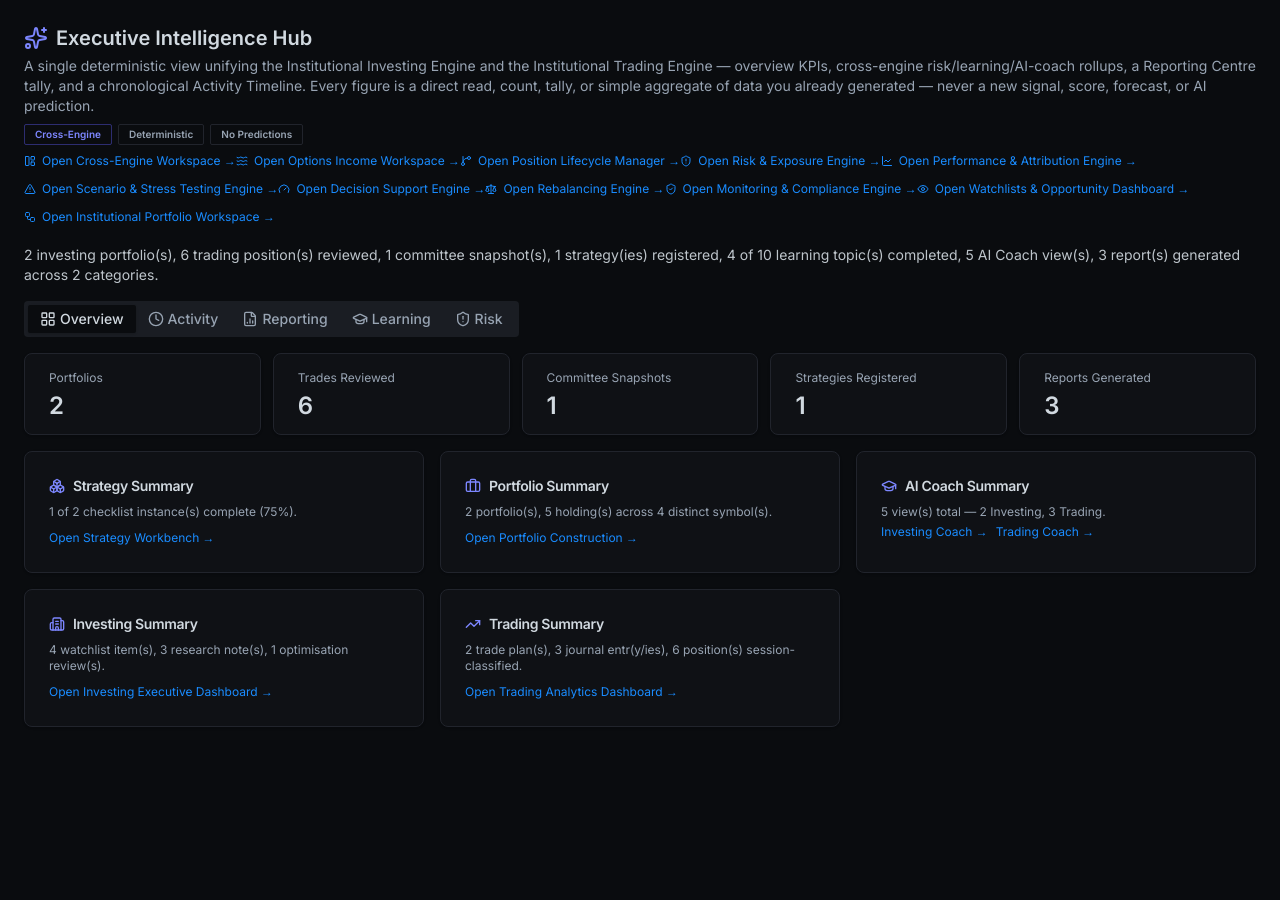
Test case: ExecutiveIntelligence page › Reporting tab shows real report-type tallies and recent reports, reusing the Reporting Centre link
Click the tab with test id "tab-executive-reporting" at (285, 319), box [230,305,340,333]
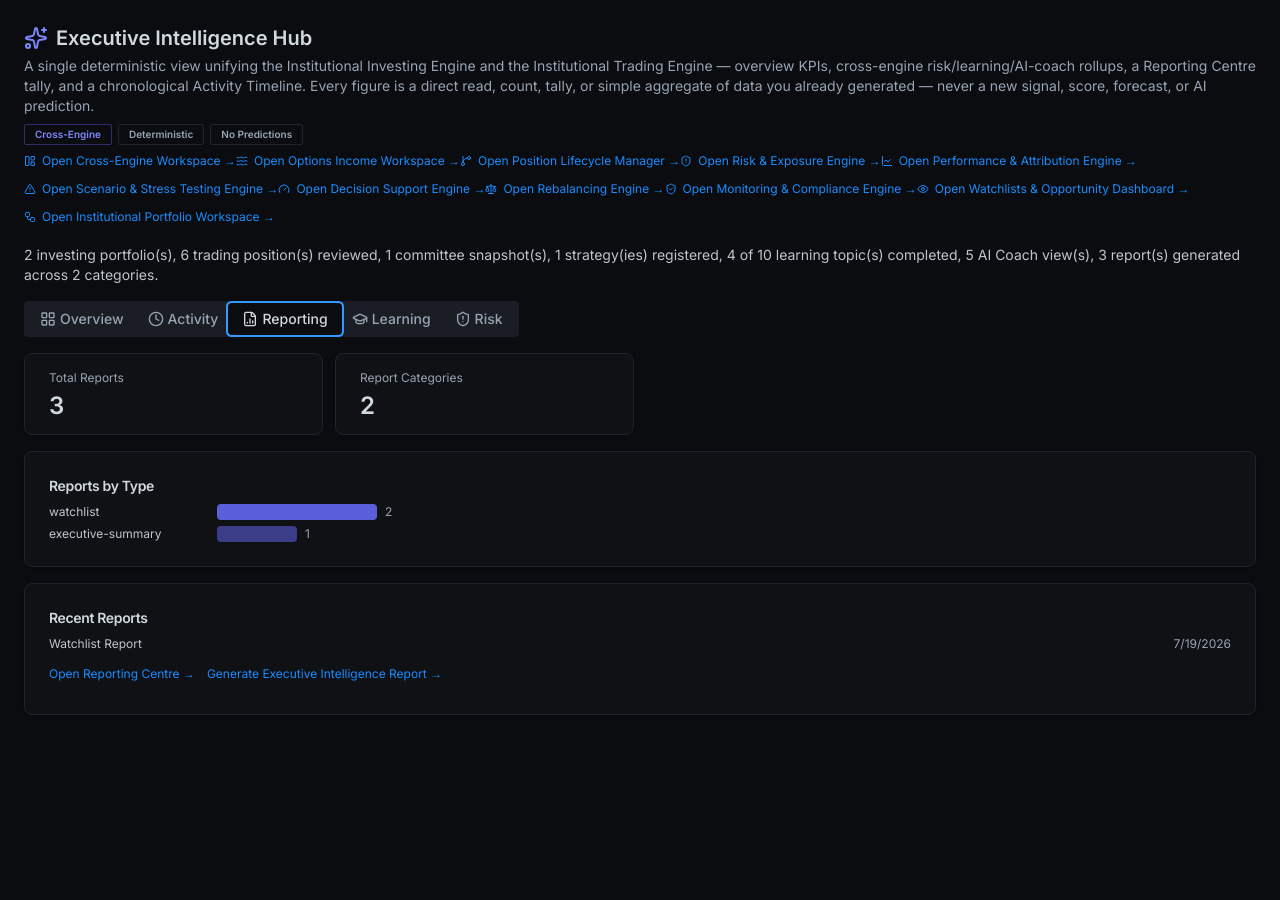
Expected: the element with test id "kpi-total-reports" shows "3", [49,391,64,420]
Expected: the element with test id "kpi-report-categories" shows "2", [360,391,375,420]
Expected: the element with test id "panel-recent-reports" shows "Watchlist Report", [49,636,142,651]
